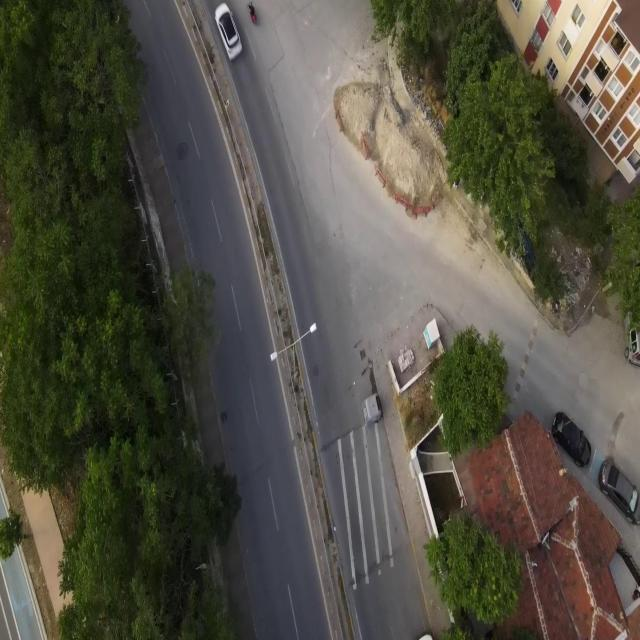p3rson: (453, 176, 460, 189)
